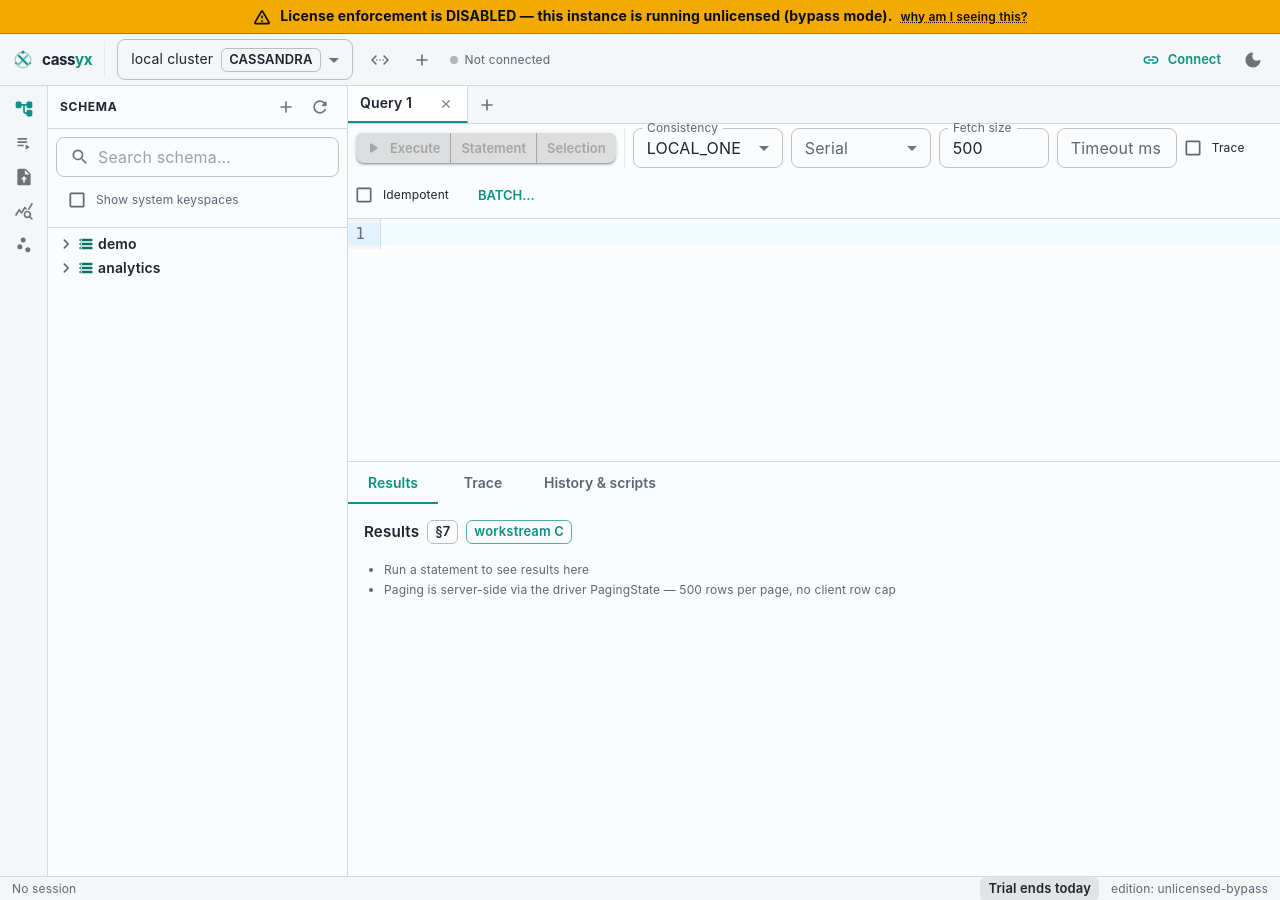
Scenario: AppShell › routes to the jobs and vector panels
Click the button named "jobs": (24, 143) [8,128,38,158]
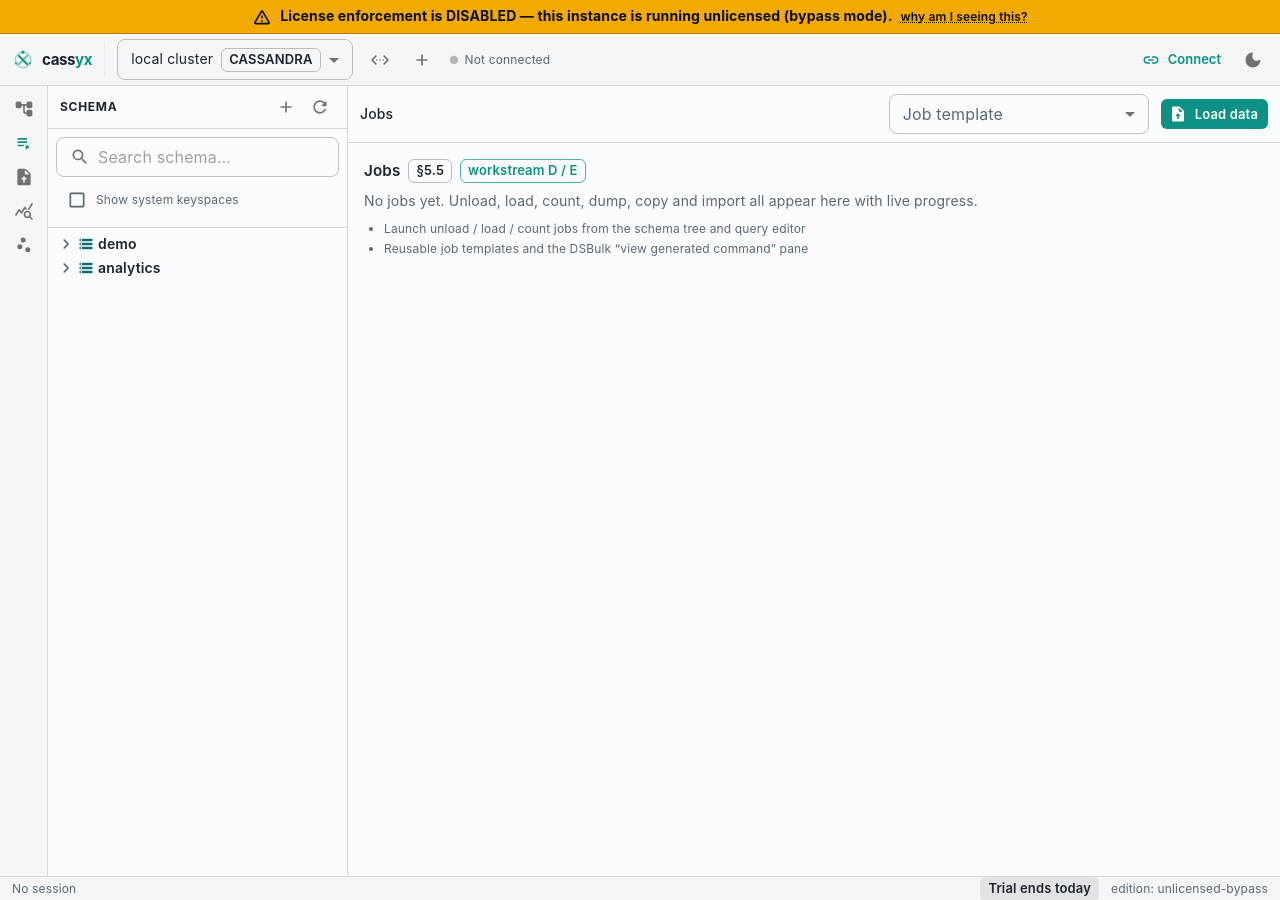
Check: the element with test id "jobs-panel-empty" is shown, box [364,159,978,256]
Click the button named "vector & ann": (24, 245) [8,230,38,260]
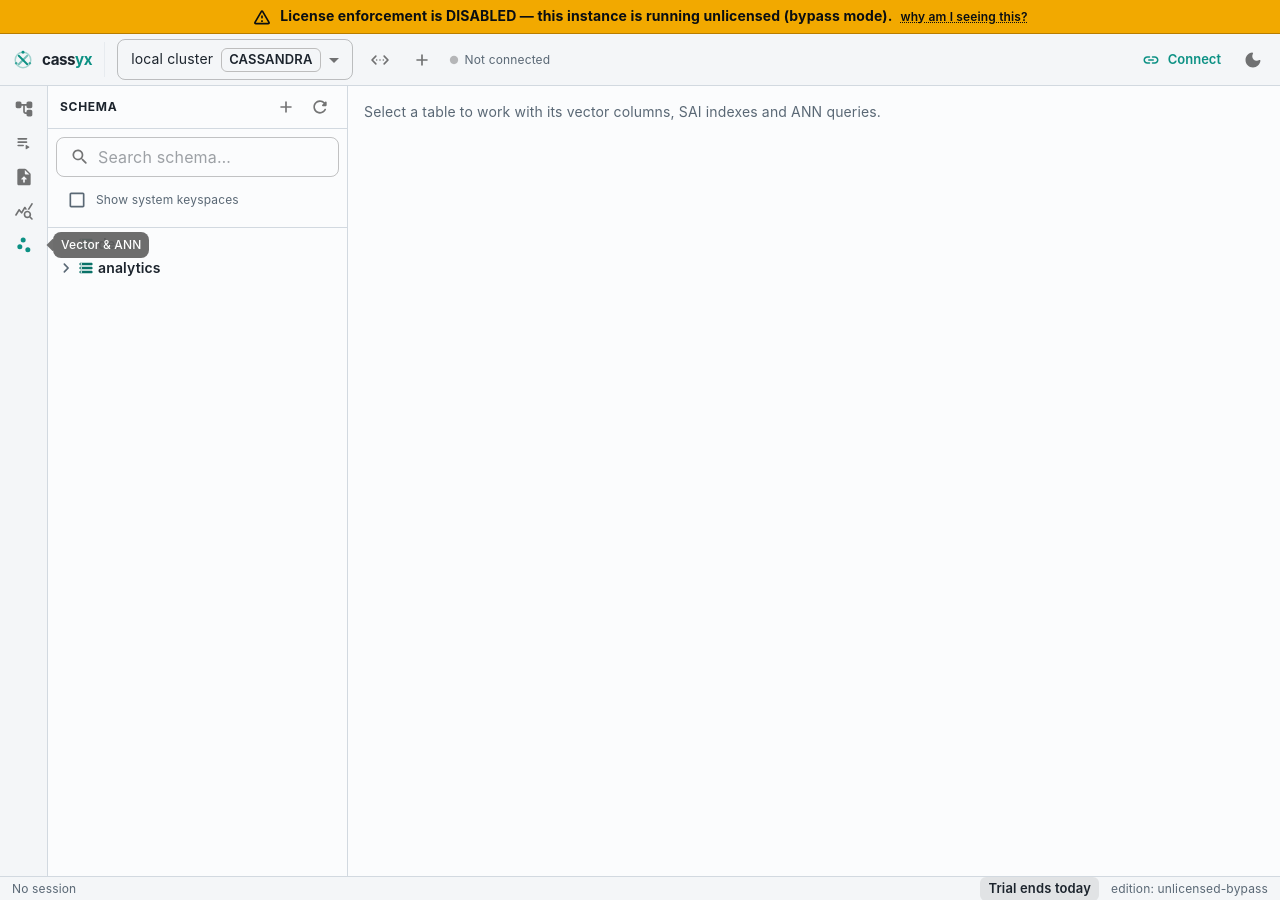
Check: the element with test id "vector-panel" is shown, box [364,103,881,120]
